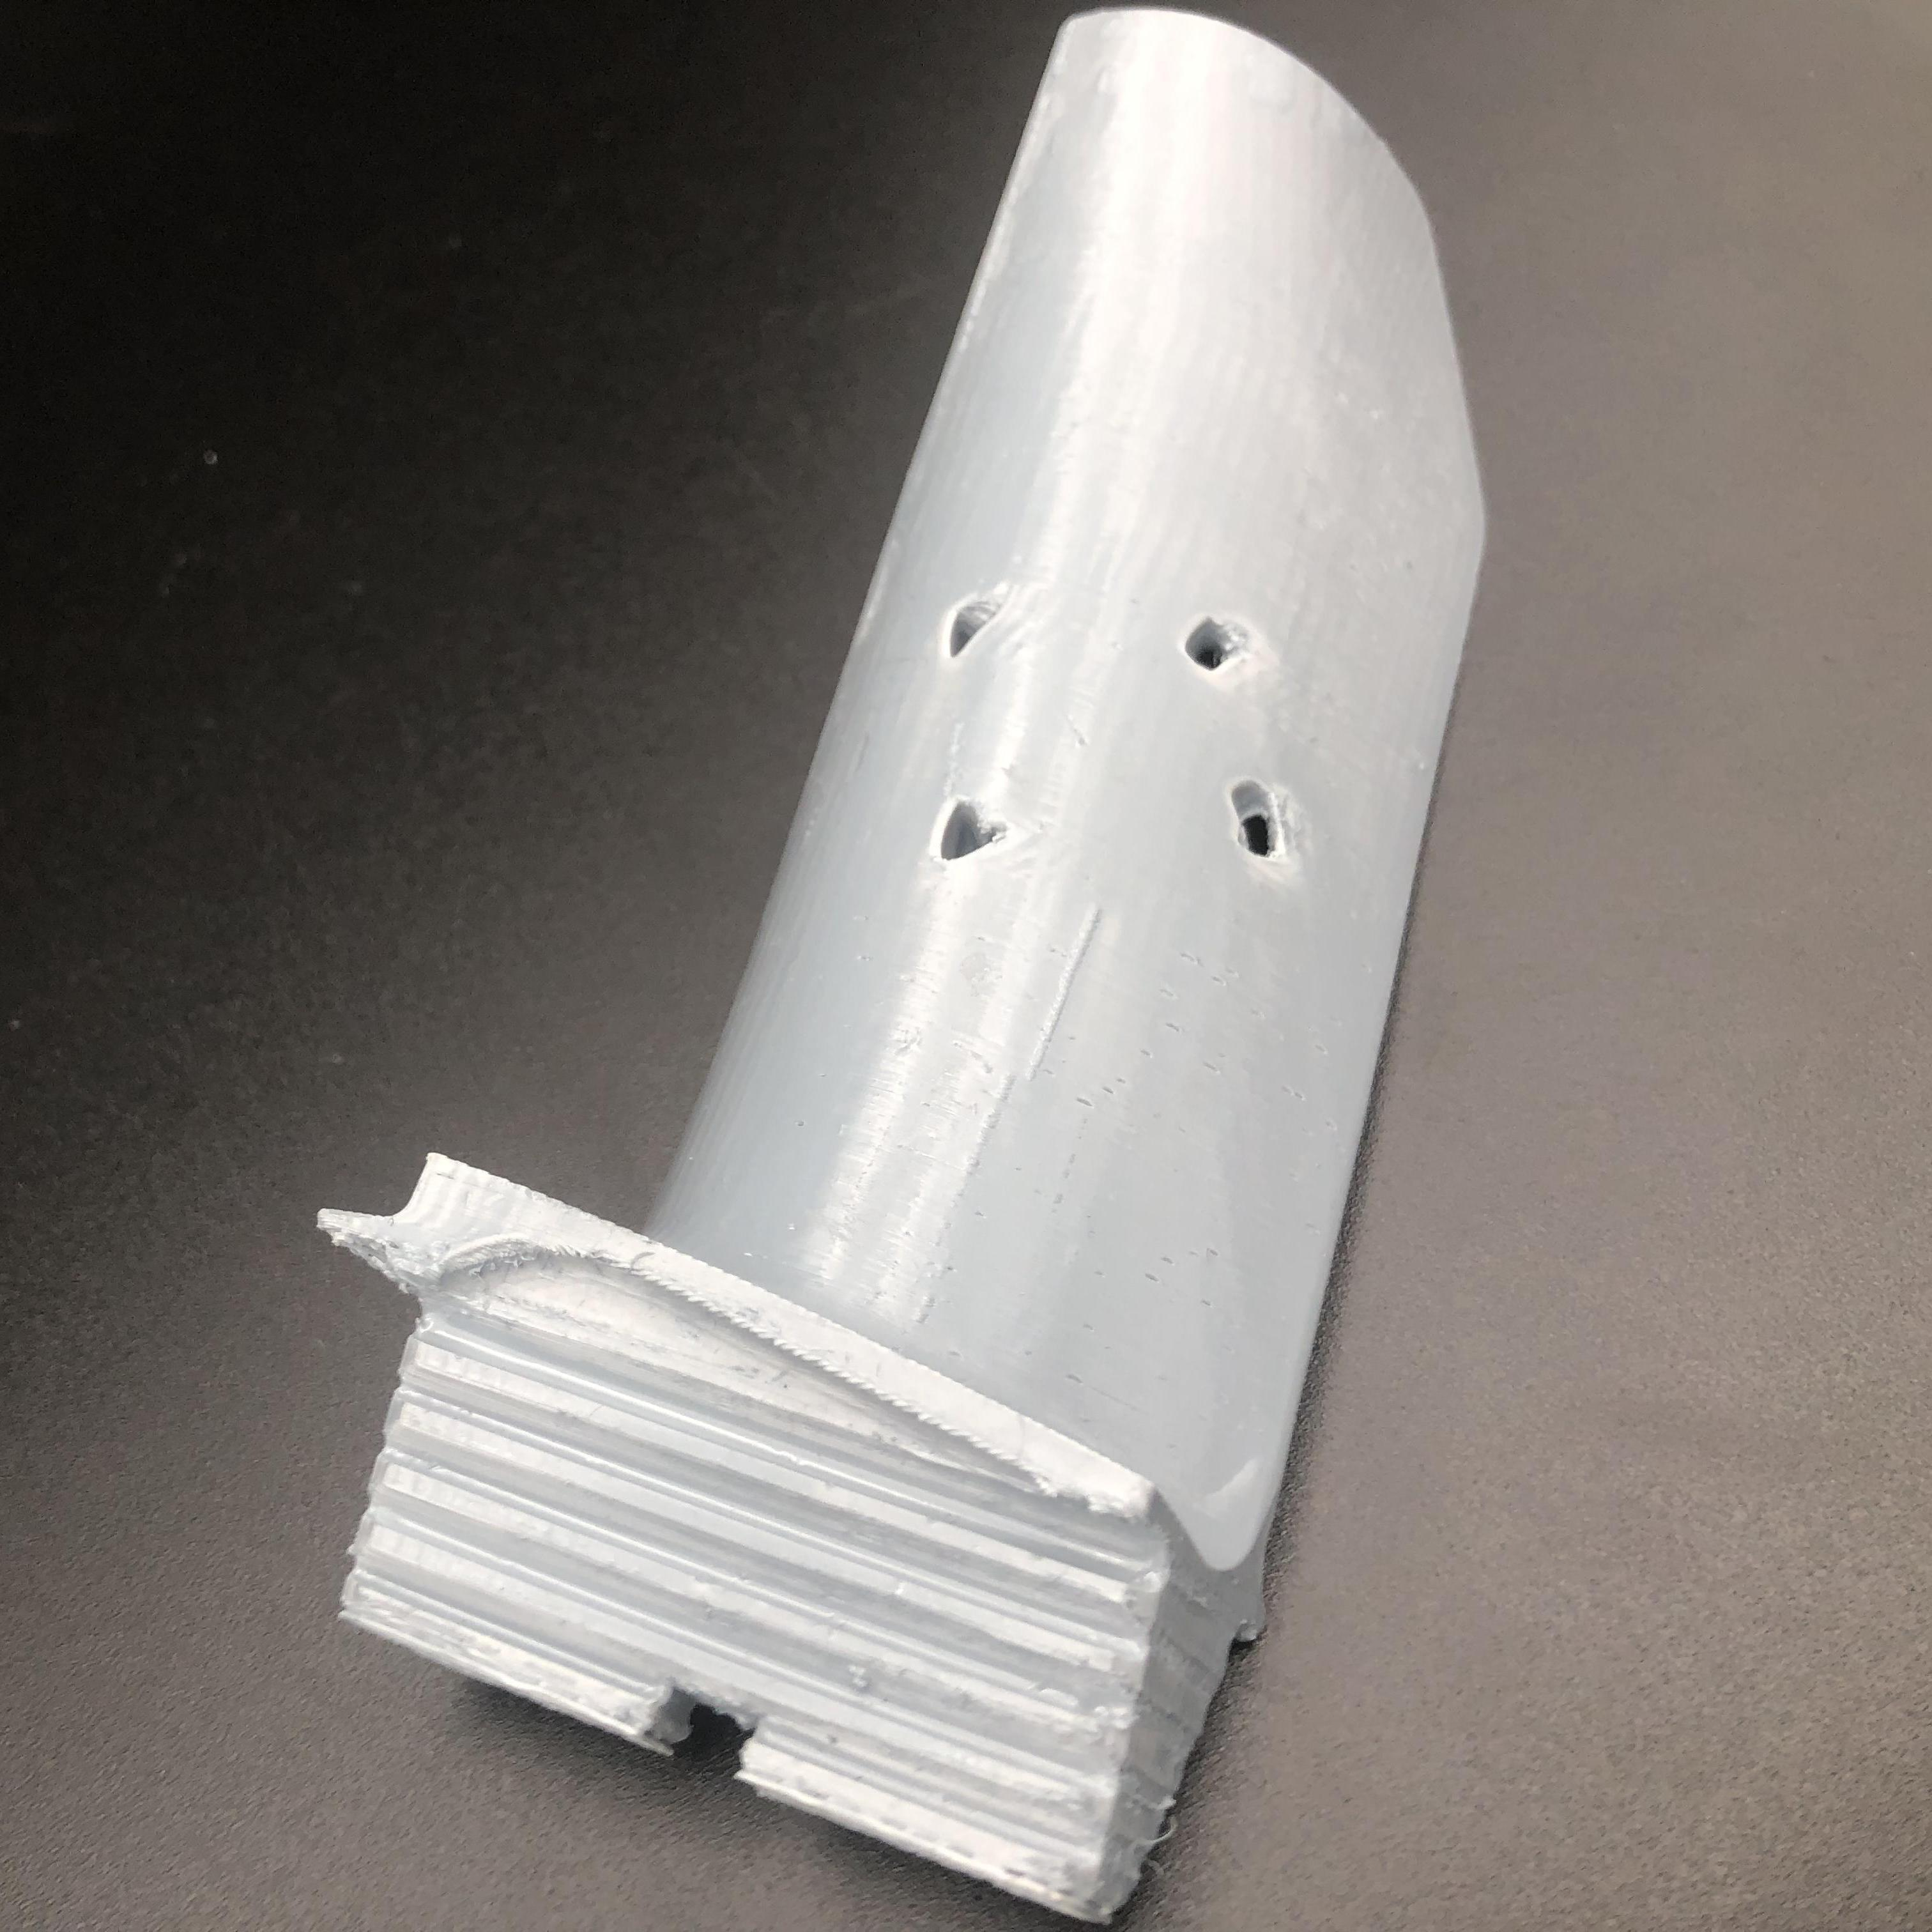breakdown: (932, 589, 1306, 867)
